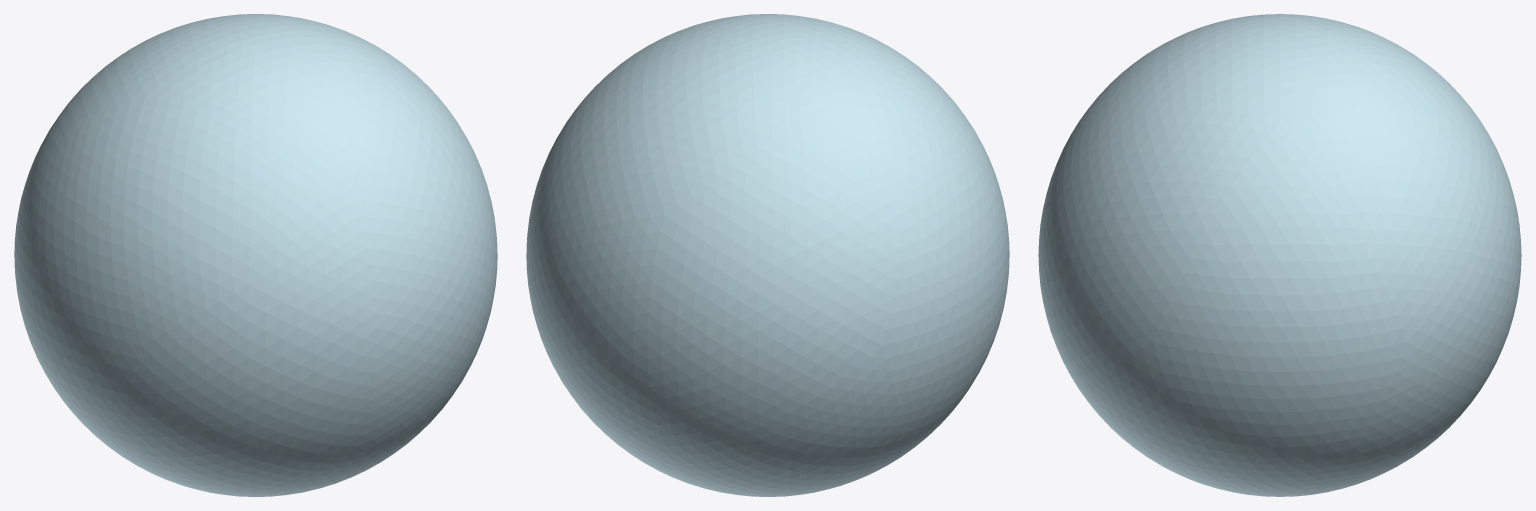
File: cell.glb
3 views of the same model, side by side, from view 1: azimuth 30°, elevation 25°; view 2: azimuth 150°, elevation 25°; view 3: azimuth 270°, elevation 25° (orthographic).
Visible parts, largest first — view 1: membrane; view 2: membrane; view 3: membrane.
Boxes of the visible parts, x1,y1,x2,y2 form: membrane: (14, 14, 497, 496); membrane: (526, 14, 1009, 496); membrane: (1038, 14, 1521, 496).
Size of the model in its own units: 2 by 2 by 2.
